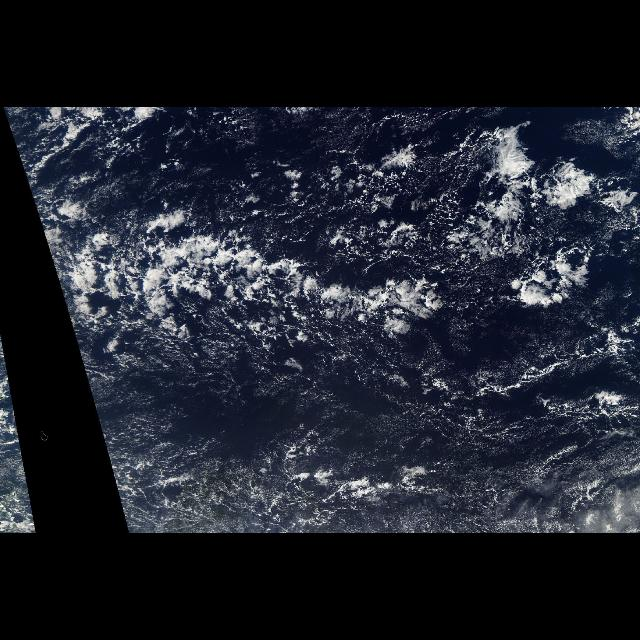Fish: (32, 197, 474, 391)
Gravel: (251, 134, 521, 238), (142, 445, 450, 533)
Sugar: (76, 343, 636, 531), (17, 110, 631, 210), (5, 352, 37, 530)
